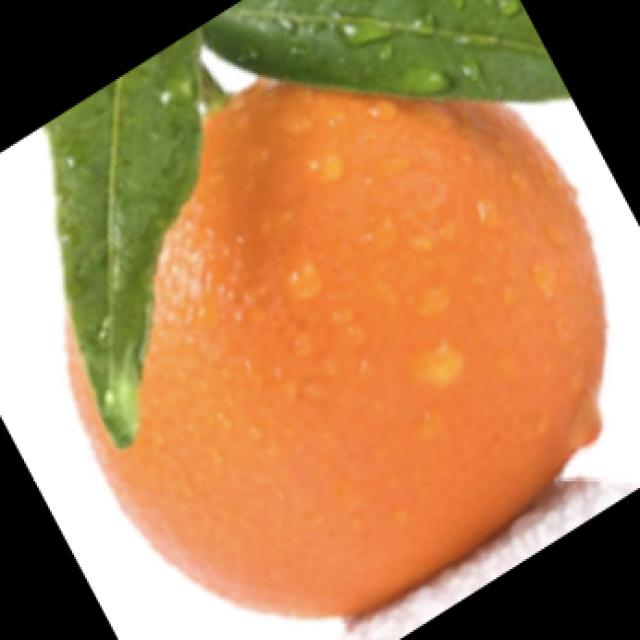matang: (64, 90, 604, 599)
